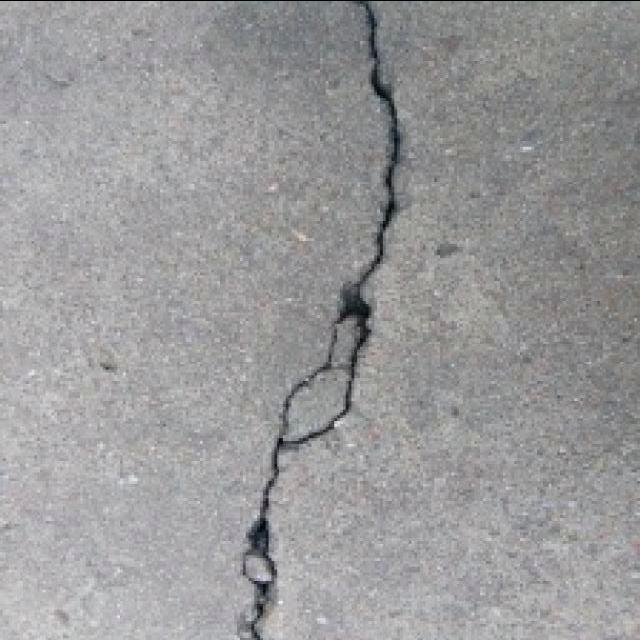SurfaceCrack: (210, 0, 436, 640)
